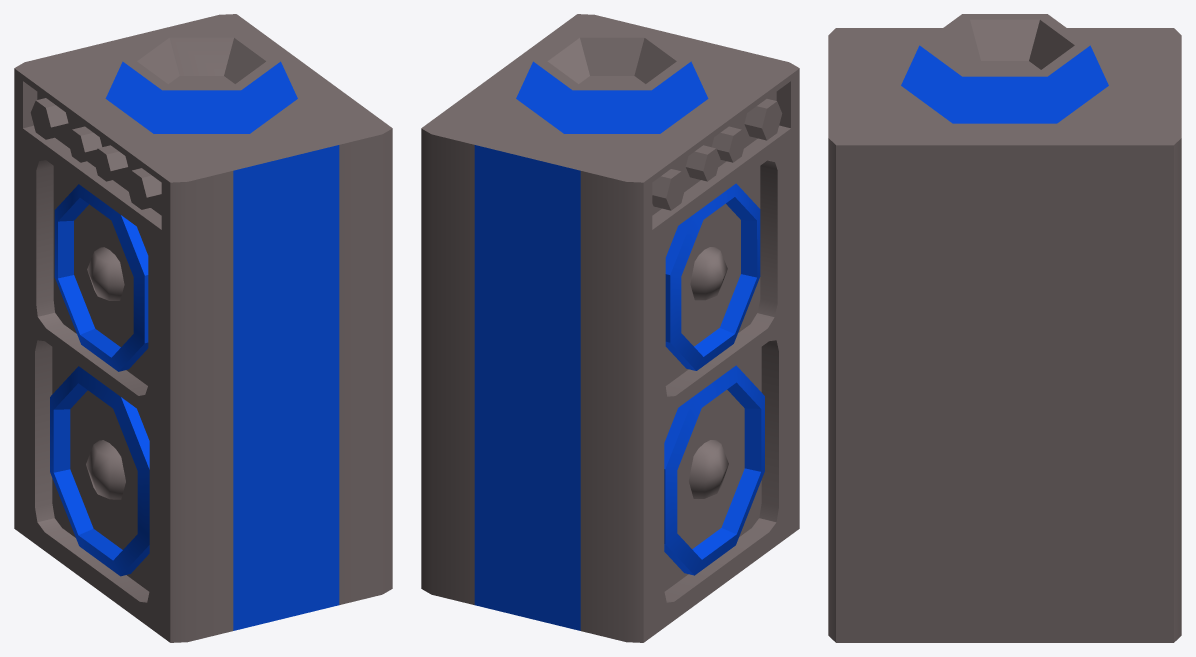
File: Amplifier.fbx
The picture shows the model from 3 angles, left to right: view 1: azimuth 30°, elevation 25°; view 2: azimuth 150°, elevation 25°; view 3: azimuth 270°, elevation 25°; orthographic projection. The views are drawn at different scales.
Visible parts, largest first — view 1: amplifier_3ds, amplifierBALLS_3ds; view 2: amplifier_3ds, amplifierBALLS_3ds; view 3: amplifier_3ds.
Boxes of the visible parts, x1,y1,x2,y2 form: amplifier_3ds: (14,14,392,642); amplifierBALLS_3ds: (86,247,125,499); amplifier_3ds: (421,14,799,642); amplifierBALLS_3ds: (689,247,728,499); amplifier_3ds: (828,14,1181,642).
Size of the model in its own units: 0.7635 by 1.61 by 0.9578.
